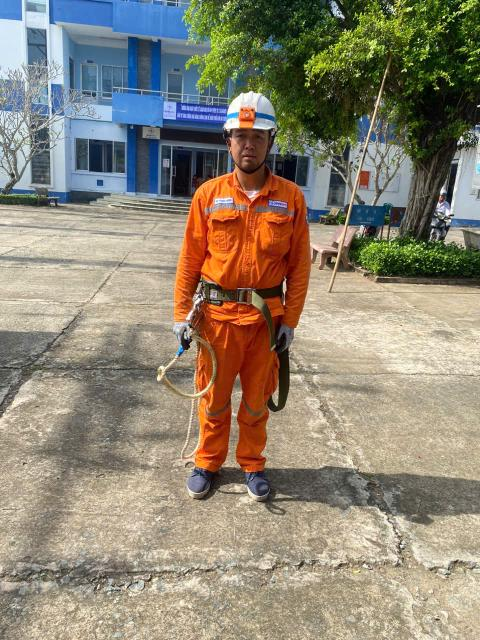gloves: (263, 323, 301, 356), (166, 315, 193, 355)
harness: (188, 270, 281, 330)
helmet: (225, 74, 281, 137)
shoes: (172, 449, 222, 509), (241, 465, 273, 509)
